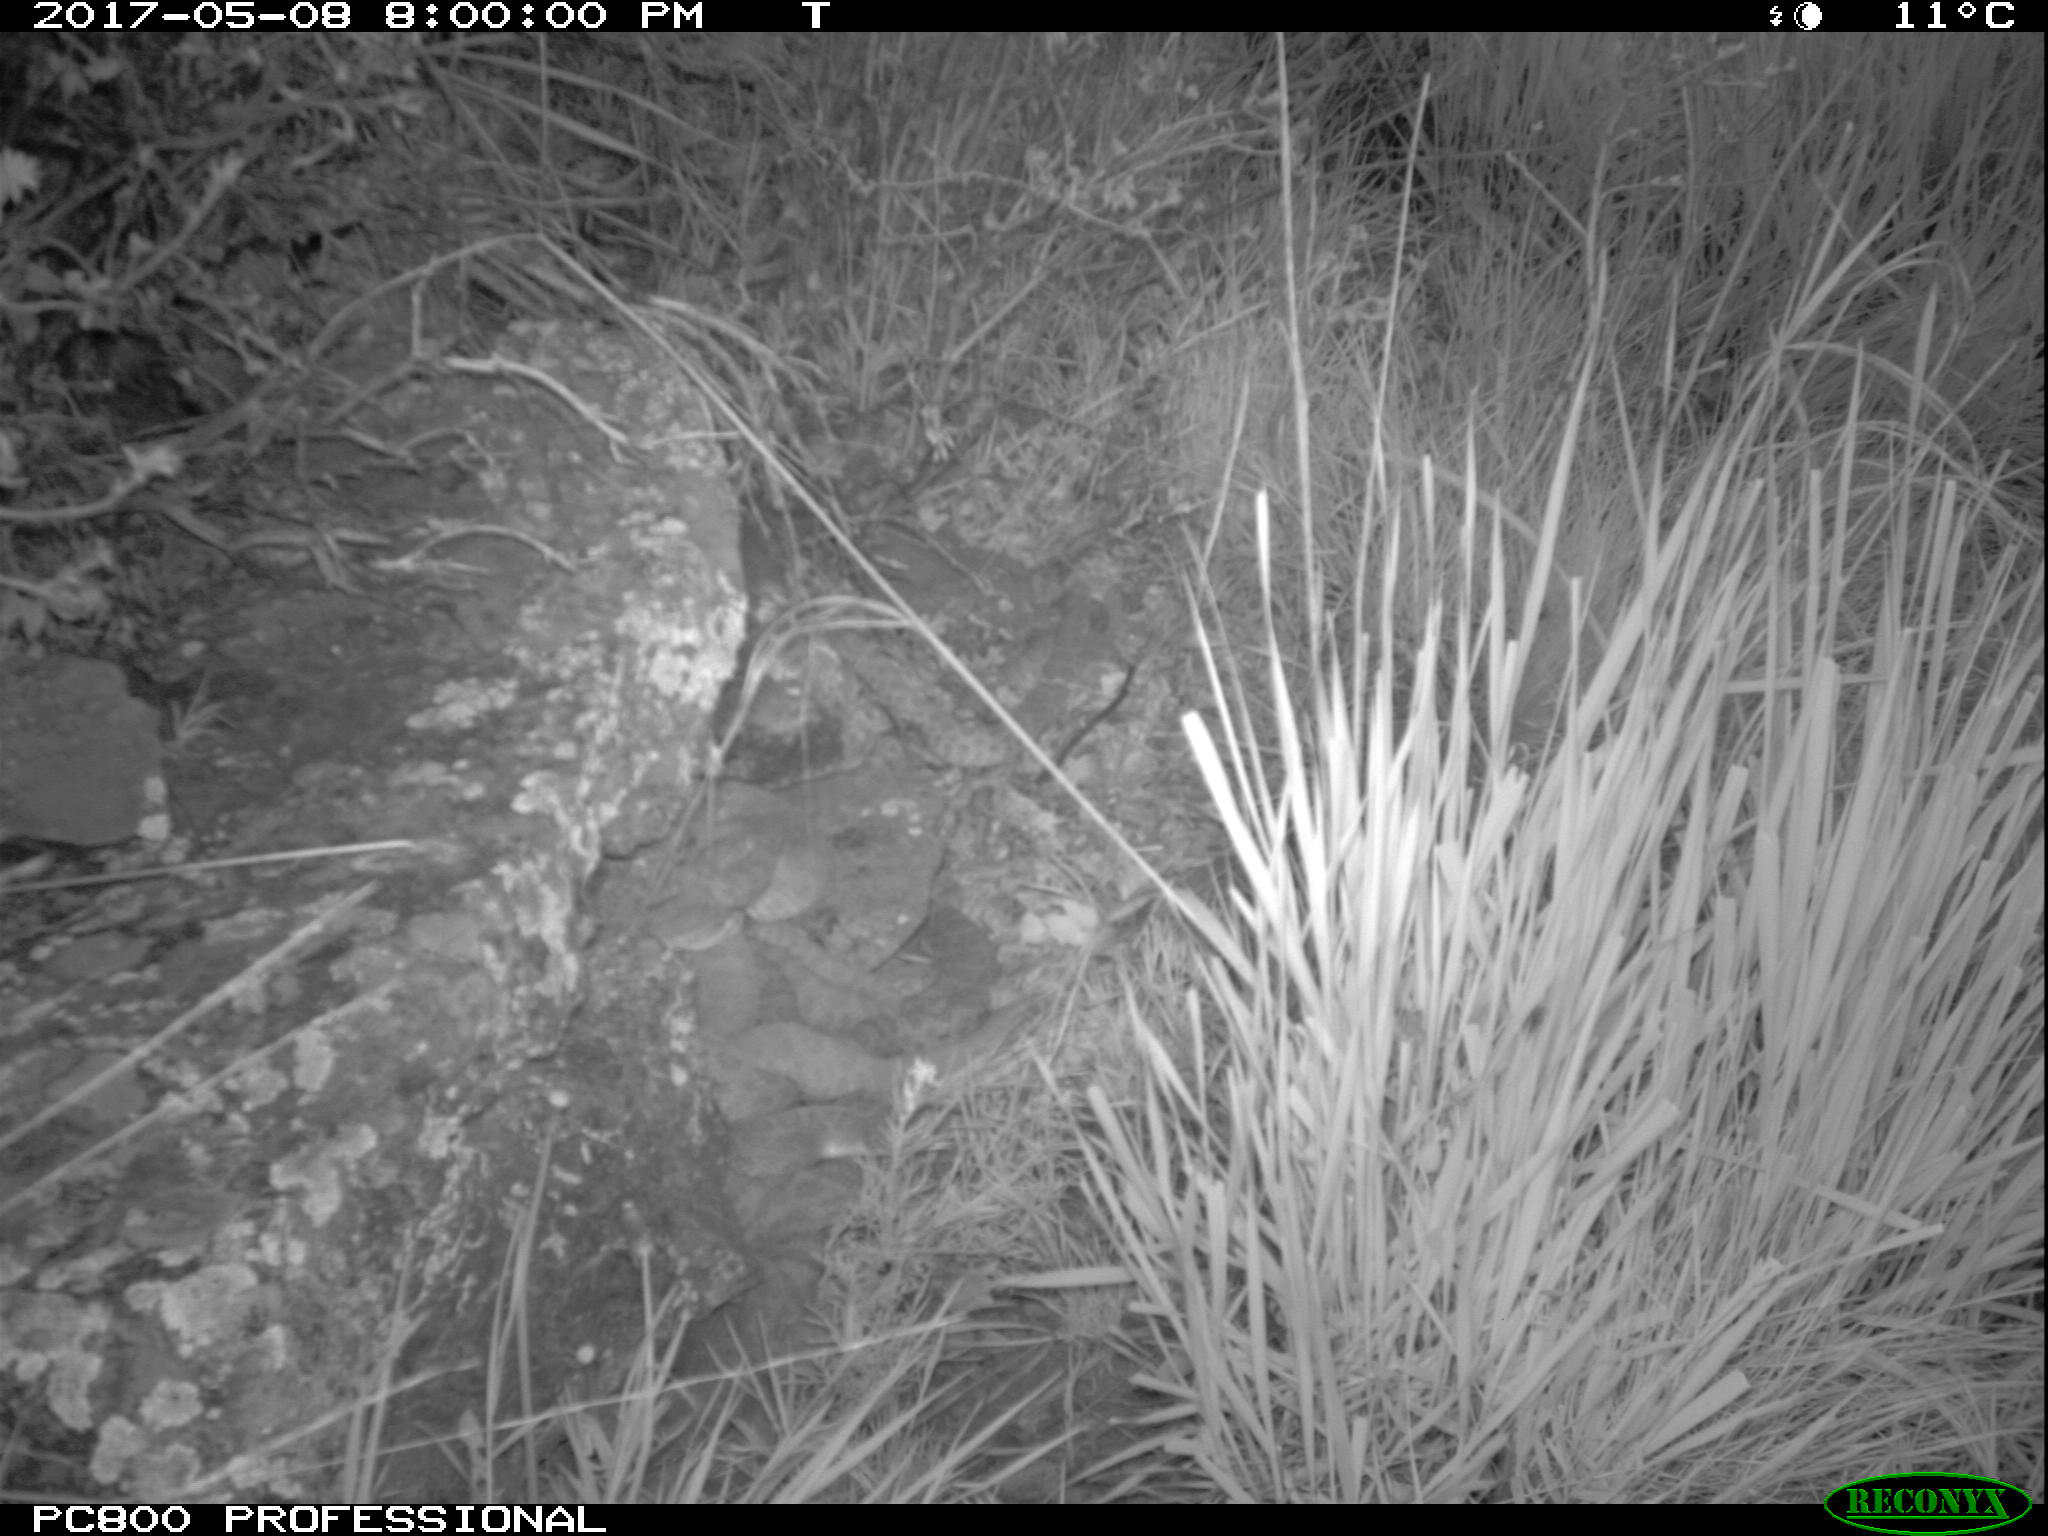snake: (697, 842, 950, 1021), (718, 1029, 901, 1258), (826, 649, 1042, 787)
